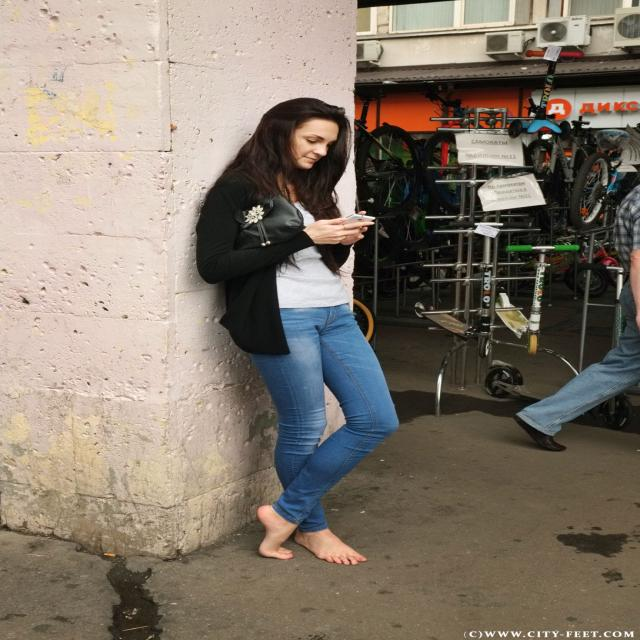Barefoots: (294, 530, 367, 565), (256, 505, 294, 560)
